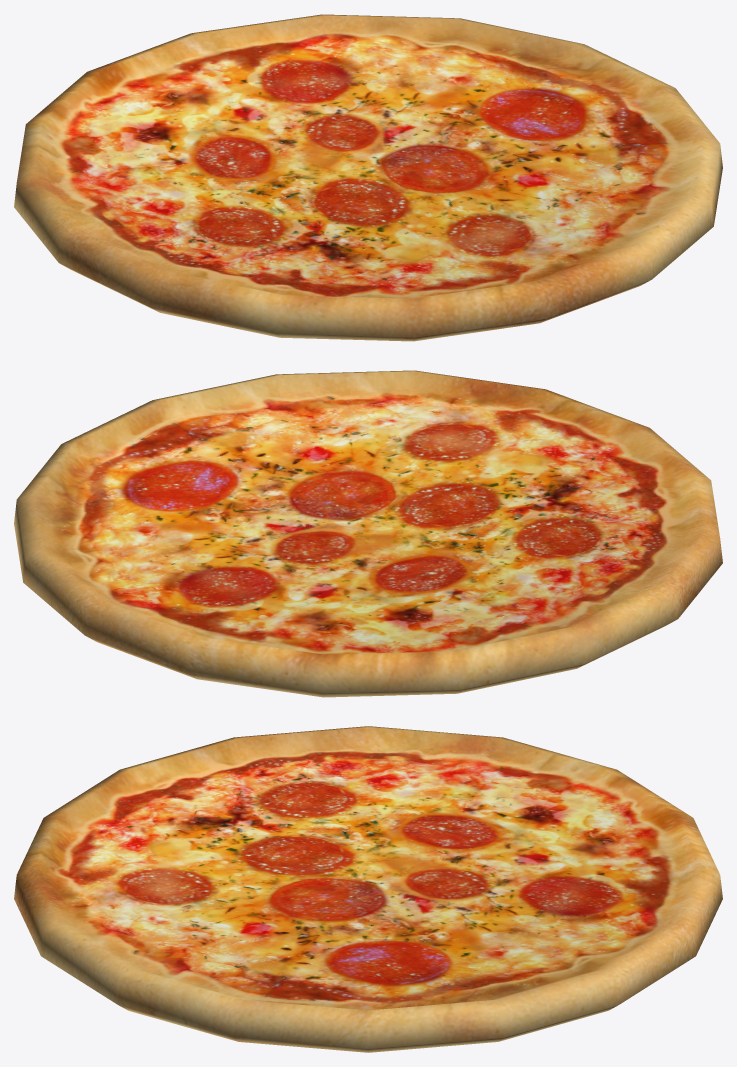
Rendered from FFHP_MOD_Pizza.fbx.
3 renders of one model, top to bottom at view 1: azimuth 30°, elevation 25°; view 2: azimuth 150°, elevation 25°; view 3: azimuth 270°, elevation 25°, orthographic.
Visible parts, largest first — view 1: FFHP_MOD_Pizza; view 2: FFHP_MOD_Pizza; view 3: FFHP_MOD_Pizza.
Part boxes in pixels (x1,y1,x2,y2): FFHP_MOD_Pizza: (14, 14, 722, 341); FFHP_MOD_Pizza: (14, 370, 722, 697); FFHP_MOD_Pizza: (14, 726, 722, 1052).
Size of the model in its own units: 0.4303 by 0.0271 by 0.4303.
